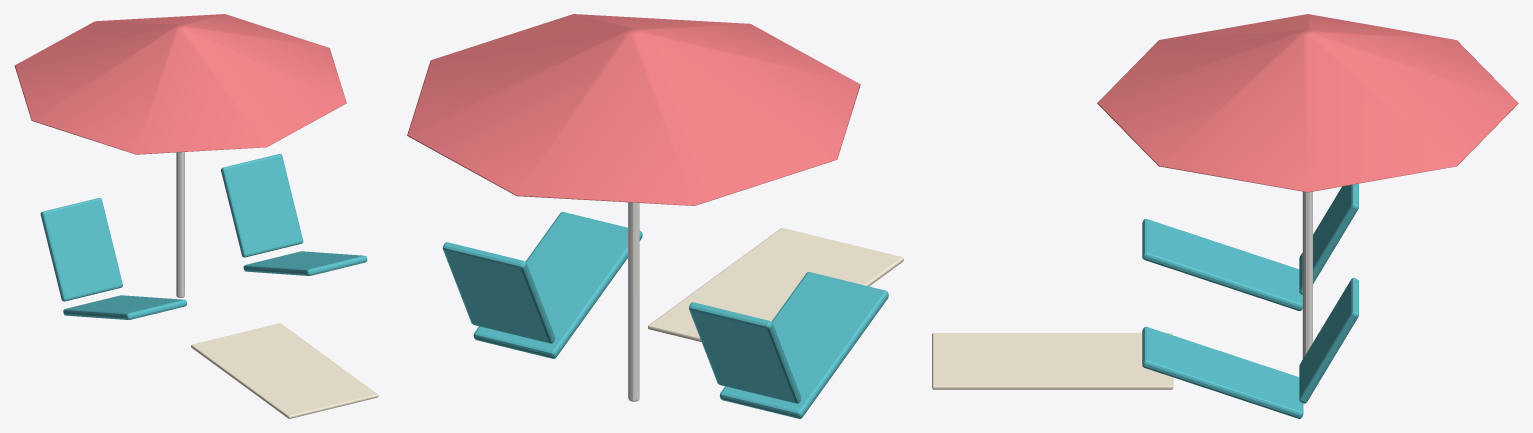
The model's file is parasol.fbx.
3 renders of one model, left to right at view 1: azimuth 30°, elevation 25°; view 2: azimuth 150°, elevation 25°; view 3: azimuth 270°, elevation 25°, orthographic. The views are drawn at different scales.
Visible parts, largest first — view 1: Visual; view 2: Visual; view 3: Visual.
Part boxes in pixels (box(x1,y1,x2,y2)): Visual: box(14, 14, 378, 418); Visual: box(407, 14, 903, 418); Visual: box(932, 14, 1518, 418).
Size of the model in its own units: 298 by 257 by 414.
